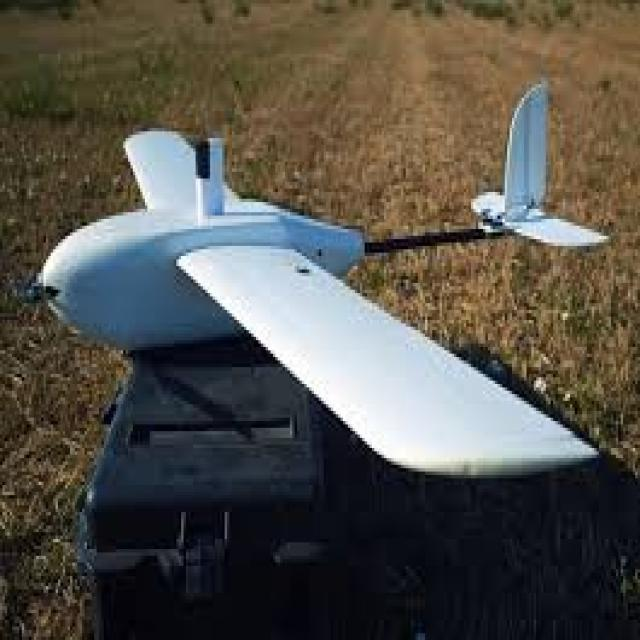UAV: (44, 109, 601, 462)
